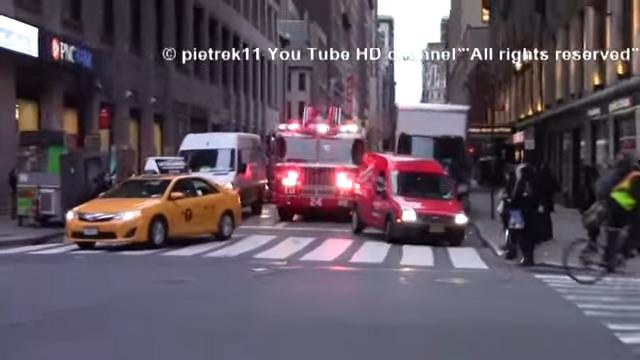Fire-engine: (265, 104, 367, 221)
